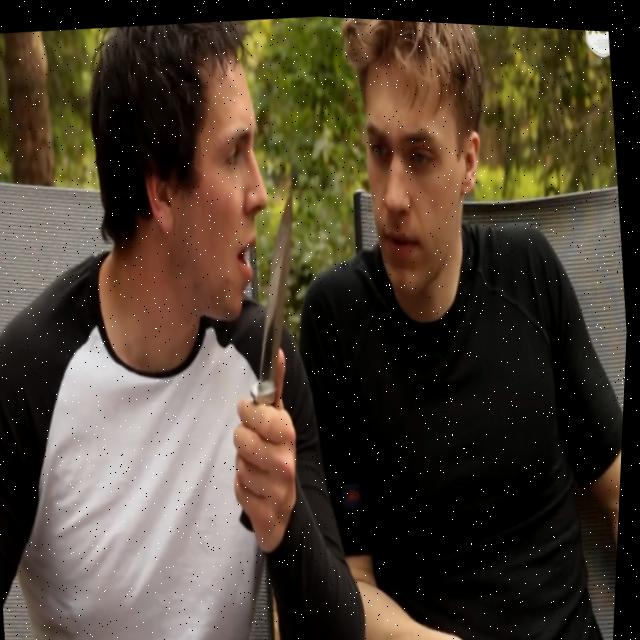knife: (231, 189, 315, 404)
